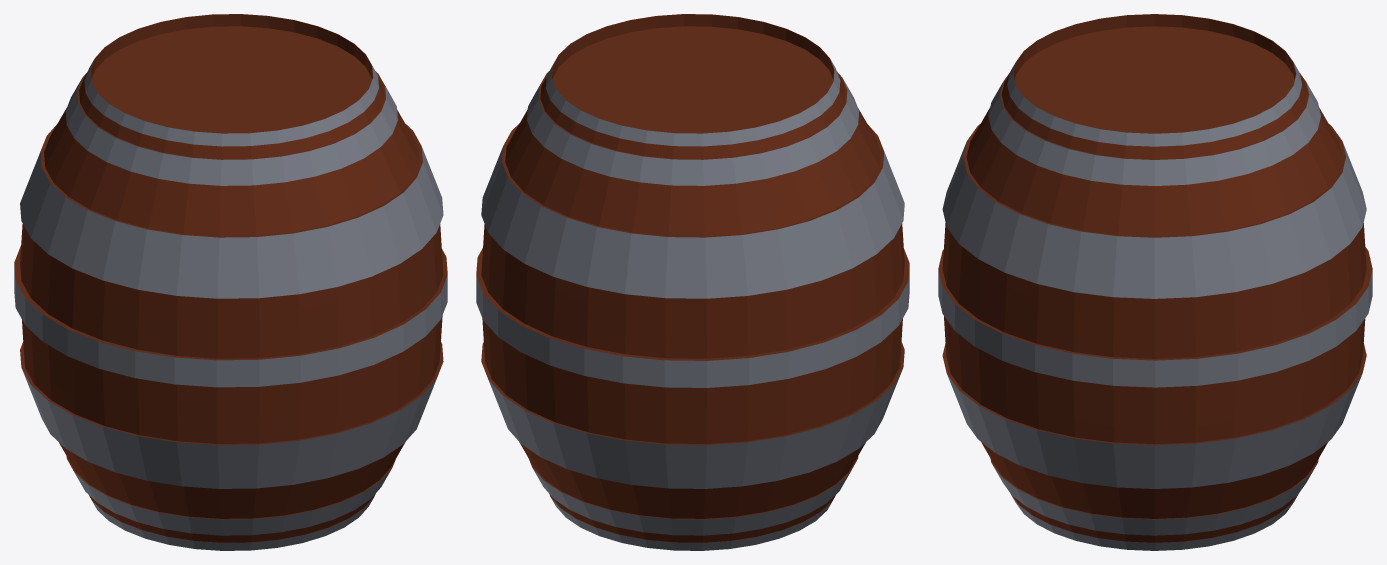
File: barrel.fbx
3 views of the same model, side by side, from view 1: azimuth 30°, elevation 25°; view 2: azimuth 150°, elevation 25°; view 3: azimuth 270°, elevation 25° (orthographic).
Visible parts, largest first — view 1: Cylinder; view 2: Cylinder; view 3: Cylinder.
Part boxes in pixels (bbox=[...]): Cylinder: bbox=[14, 14, 447, 550]; Cylinder: bbox=[476, 14, 909, 550]; Cylinder: bbox=[938, 14, 1372, 550].
Bounding box in the file's own units: 265 × 280 × 265.
2 materials, 2 textured.
